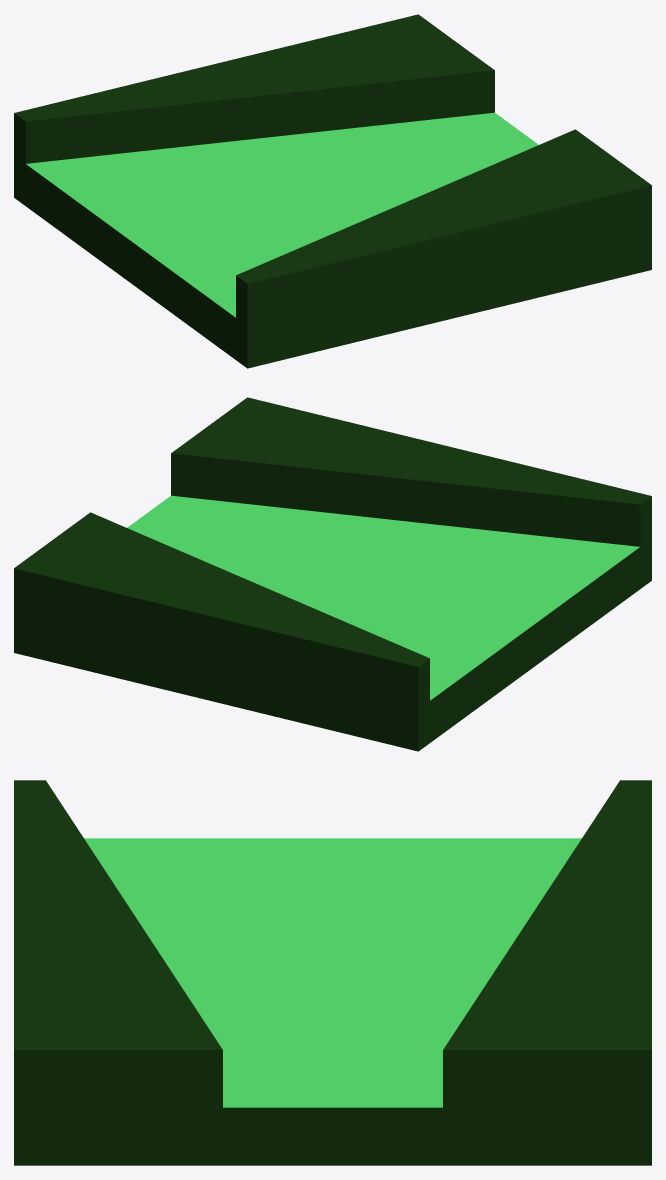
File: MG Straight Narrow.fbx
The picture shows the model from 3 angles, top to bottom: view 1: azimuth 30°, elevation 25°; view 2: azimuth 150°, elevation 25°; view 3: azimuth 270°, elevation 25°; orthographic projection. The views are drawn at different scales.
Parts seen in each view (by area): view 1: MG Straight Narrow; view 2: MG Straight Narrow; view 3: MG Straight Narrow.
Part boxes in pixels (<box>): MG Straight Narrow: <box>14,14,651,368</box>; MG Straight Narrow: <box>14,397,651,751</box>; MG Straight Narrow: <box>14,780,651,1165</box>.
Size of the model in its own units: 200 by 40 by 200.
